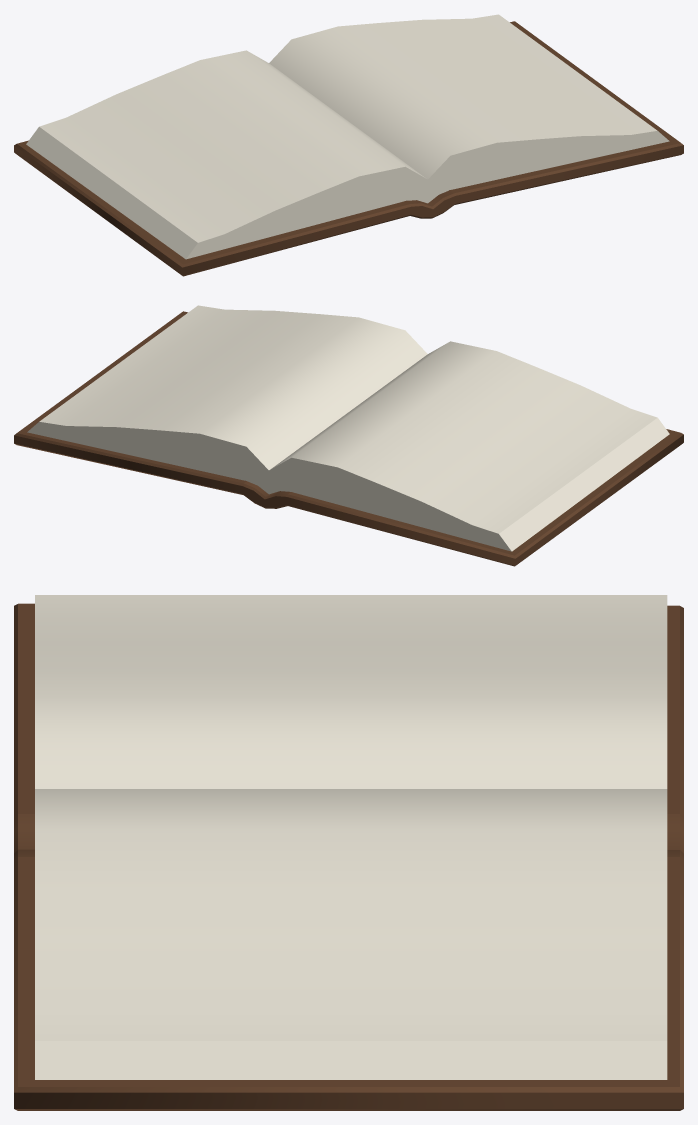
Rendered from Alcorao.fbx.
The picture shows the model from 3 angles, top to bottom: view 1: azimuth 30°, elevation 25°; view 2: azimuth 150°, elevation 25°; view 3: azimuth 270°, elevation 25°; orthographic projection. The views are drawn at different scales.
Visible parts, largest first — view 1: Alcorao; view 2: Alcorao; view 3: Alcorao.
Part boxes in pixels (x1,y1,x2,y2): Alcorao: [14, 14, 683, 276]; Alcorao: [14, 305, 683, 566]; Alcorao: [14, 595, 683, 1110].
Size of the model in its own units: 42.37 by 4.5 by 24.65.
